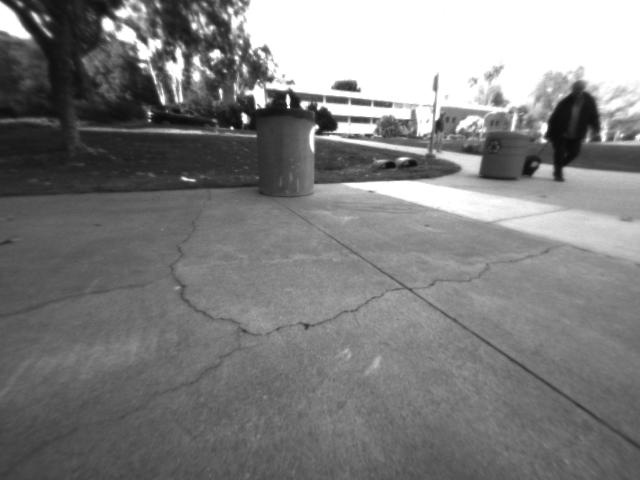trashcan: (247, 99, 323, 209), (476, 121, 532, 186)
